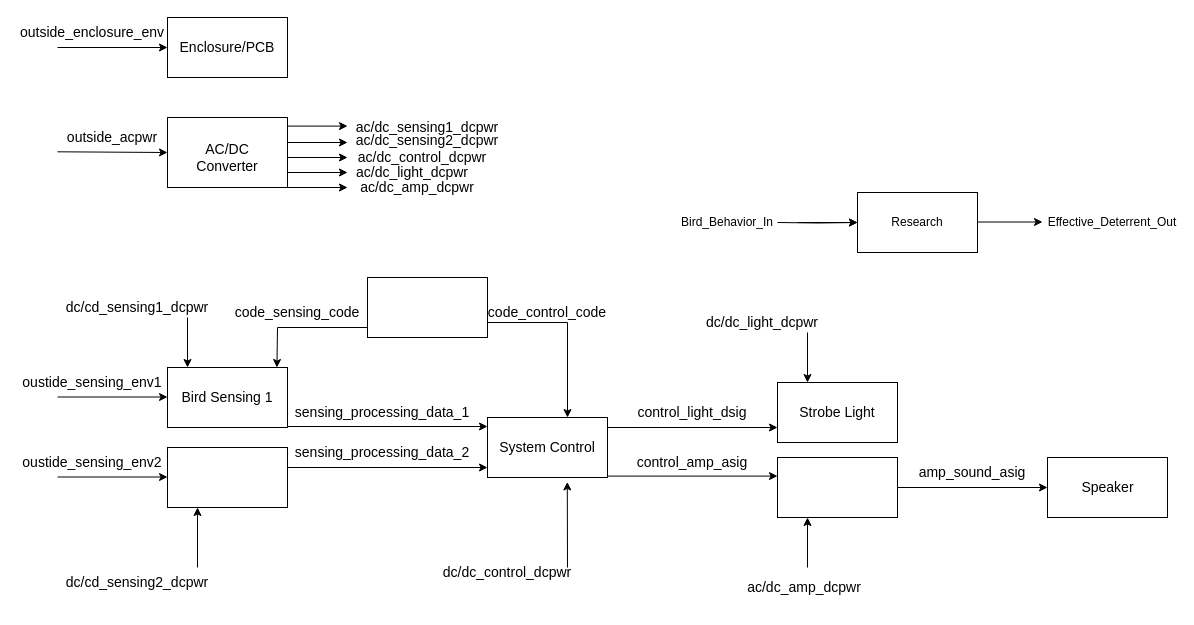
The diagram is 1194 pixels wide and 625 high, and some of its shapes have lost their labels. The centre of each missing label's shape, as x and y in pixels:
Audio Amp: the point at 837,487
Bird Sensing 2: the point at 227,477
Code: the point at 427,307
